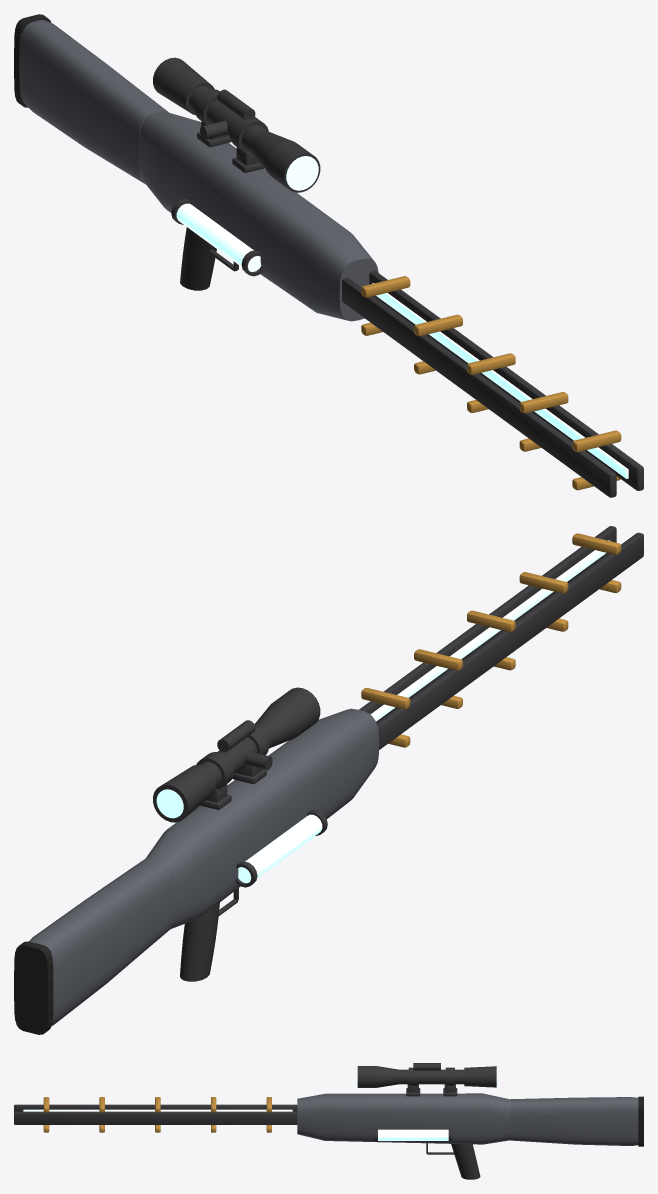
The model's file is penetrator.glb.
3 views of the same model, one above another, from view 1: azimuth 30°, elevation 25°; view 2: azimuth 150°, elevation 25°; view 3: azimuth 270°, elevation 25° (orthographic). The views are drawn at different scales.
Parts seen in each view (by area): view 1: Body; view 2: Body; view 3: Body.
Part boxes in pixels (<box>): Body: <box>14,14,643,497</box>; Body: <box>14,526,643,1034</box>; Body: <box>14,1063,643,1179</box>.
Size of the model in its own units: 0.1088 by 0.269 by 1.36.
